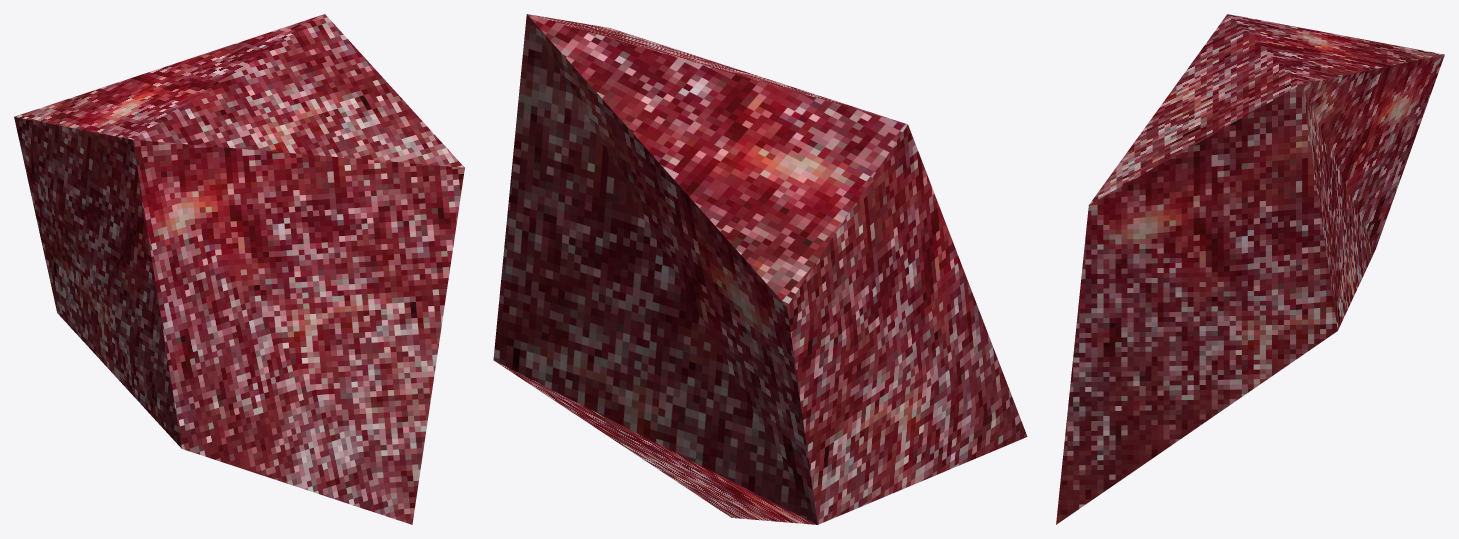
File: MeatChunk.glb
3 views of the same model, side by side, from view 1: azimuth 30°, elevation 25°; view 2: azimuth 150°, elevation 25°; view 3: azimuth 270°, elevation 25° (orthographic). The views are drawn at different scales.
Parts seen in each view (by area): view 1: Cube; view 2: Cube; view 3: Cube.
Boxes of the visible parts, bbox=[...] form: Cube: bbox=[14, 14, 464, 524]; Cube: bbox=[493, 14, 1027, 524]; Cube: bbox=[1056, 14, 1444, 524].
Size of the model in its own units: 0.2565 by 0.3612 by 0.2801.
Materials: 1 (1 with a texture image).
